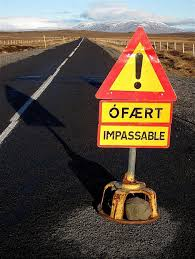obstacle: (88, 17, 178, 227)
